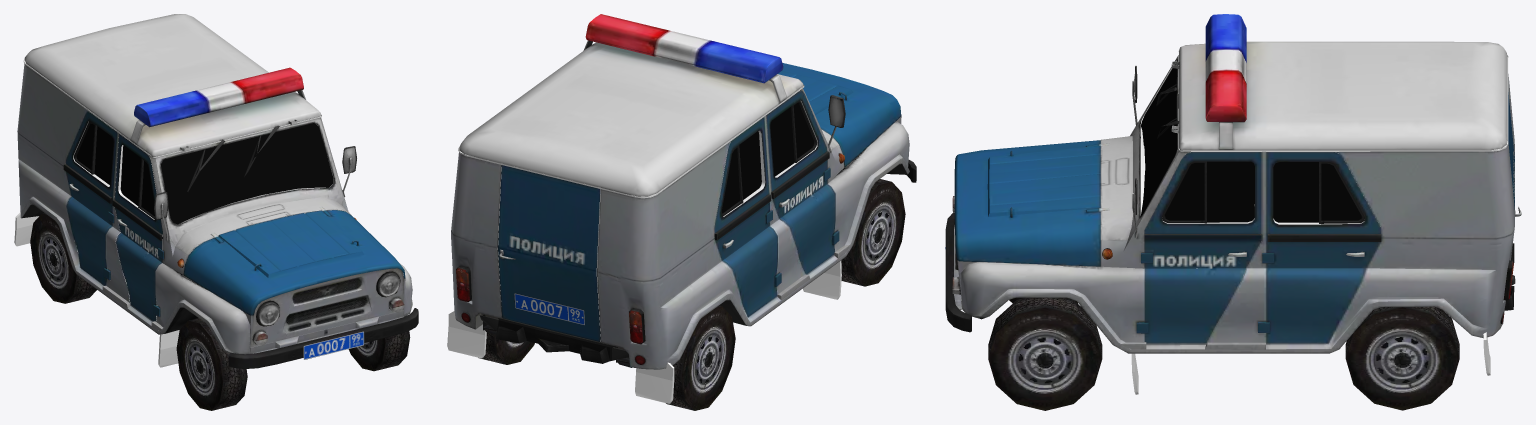
File: police_small.glb
3 renders of one model, left to right at view 1: azimuth 30°, elevation 25°; view 2: azimuth 150°, elevation 25°; view 3: azimuth 270°, elevation 25°, orthographic. The views are drawn at different scales.
Visible parts, largest first — view 1: Body; view 2: Body; view 3: Body.
Part boxes in pixels (<box>): Body: <box>14,14,418,410</box>; Body: <box>447,14,916,410</box>; Body: <box>945,14,1521,410</box>.
Bounding box in the file's own units: 1.78 × 2.02 × 3.58.
8 materials, 6 textured.
